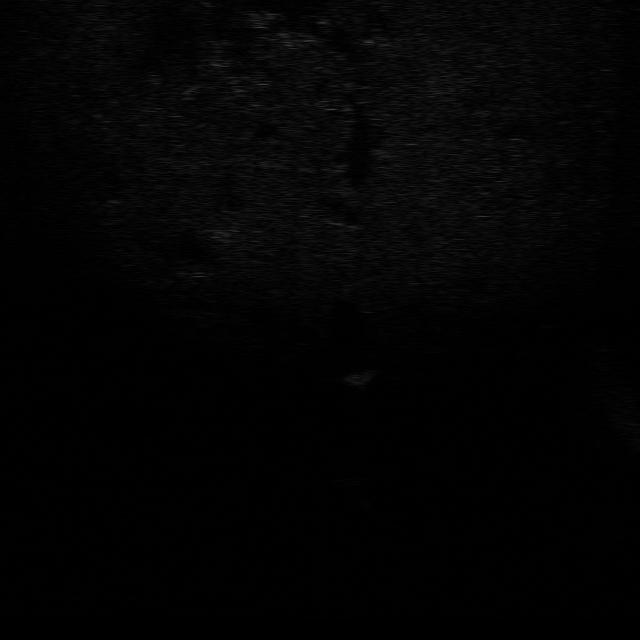cube: (328, 473, 372, 492)
square cage: (338, 366, 382, 389)
